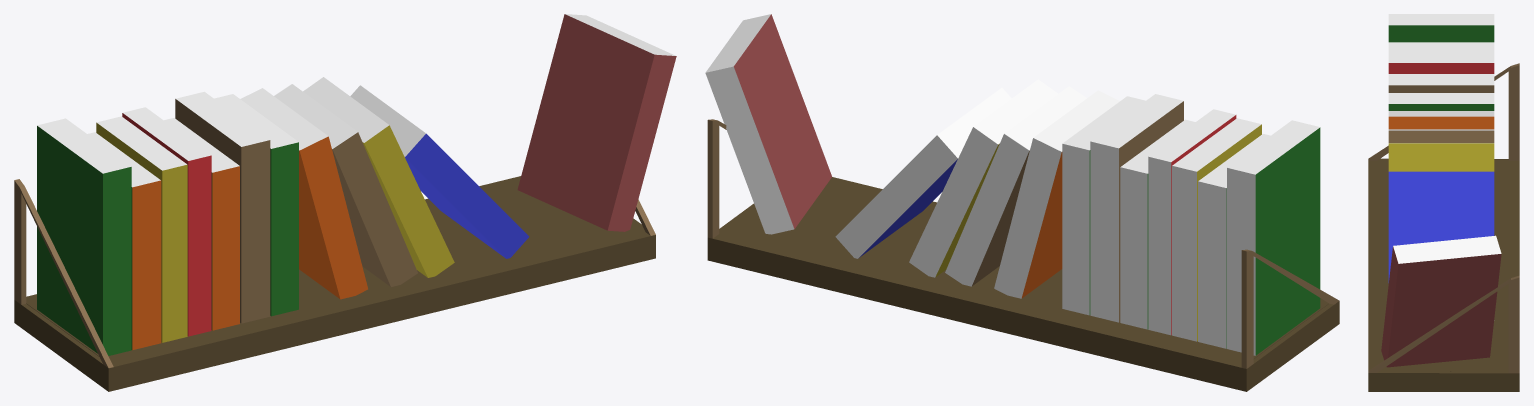
File: WallBookshelf.fbx
3 renders of one model, left to right at view 1: azimuth 30°, elevation 25°; view 2: azimuth 150°, elevation 25°; view 3: azimuth 270°, elevation 25°, orthographic. The views are drawn at different scales.
Parts seen in each view (by area): view 1: WallBookshelf; view 2: WallBookshelf; view 3: WallBookshelf.
Part boxes in pixels (box(x1,y1,x2,y2)): WallBookshelf: box(14, 14, 676, 391); WallBookshelf: box(705, 14, 1339, 391); WallBookshelf: box(1368, 14, 1519, 391).
Size of the model in its own units: 575 by 194 by 160.
